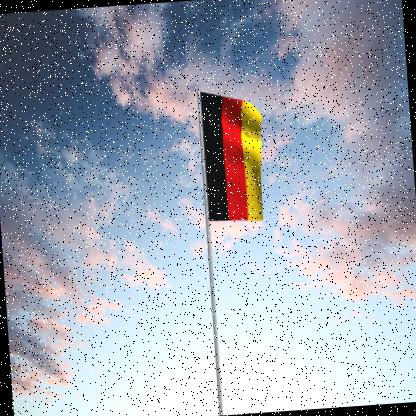de: (202, 88, 272, 226)
